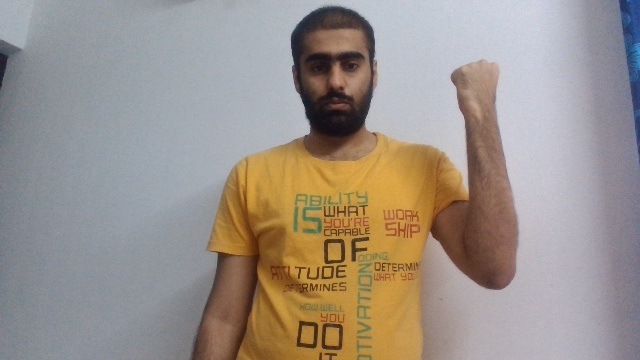rock: (448, 58, 500, 115)
